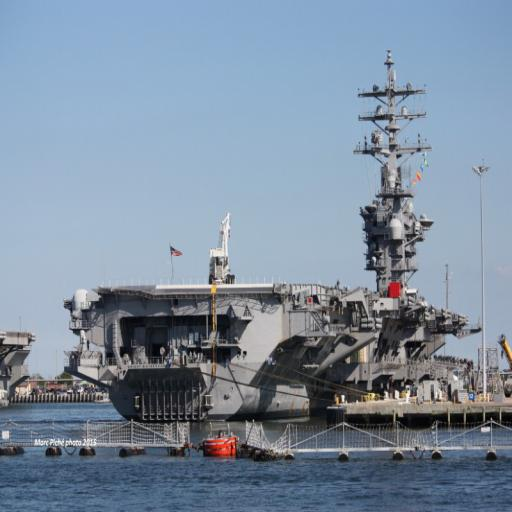Portanaves: (65, 25, 484, 431)
